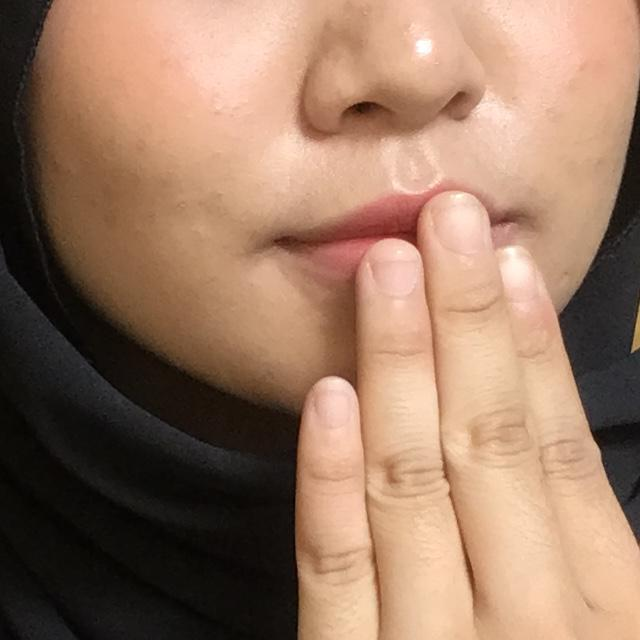ganteng: (140, 166, 640, 640)
